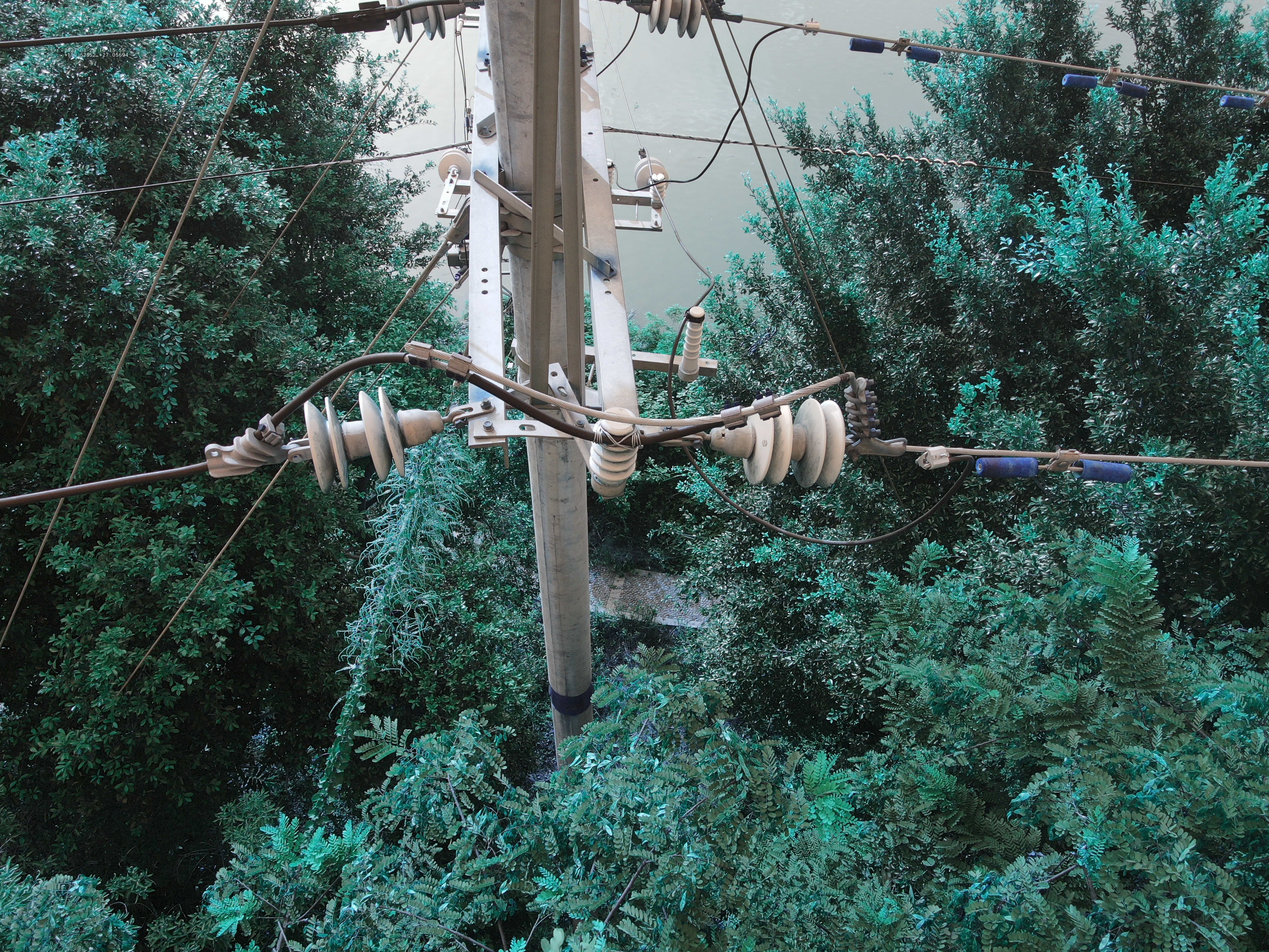severe_soiling_no_discharge_whole: (301, 384, 447, 496), (707, 393, 849, 490), (586, 404, 642, 500), (383, 1, 470, 43), (625, 2, 704, 42)
